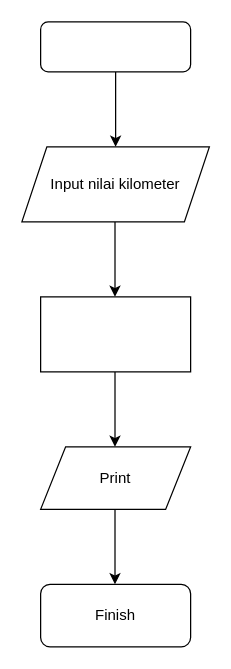
Some shapes in this 231 by 669 pixel diagram are drawn without their labels. Here are the shapes that lost their labels. From the top down, the centre of each, then its label:
the point at 115,46: Start
the point at 115,334: Kilometer * 1000
